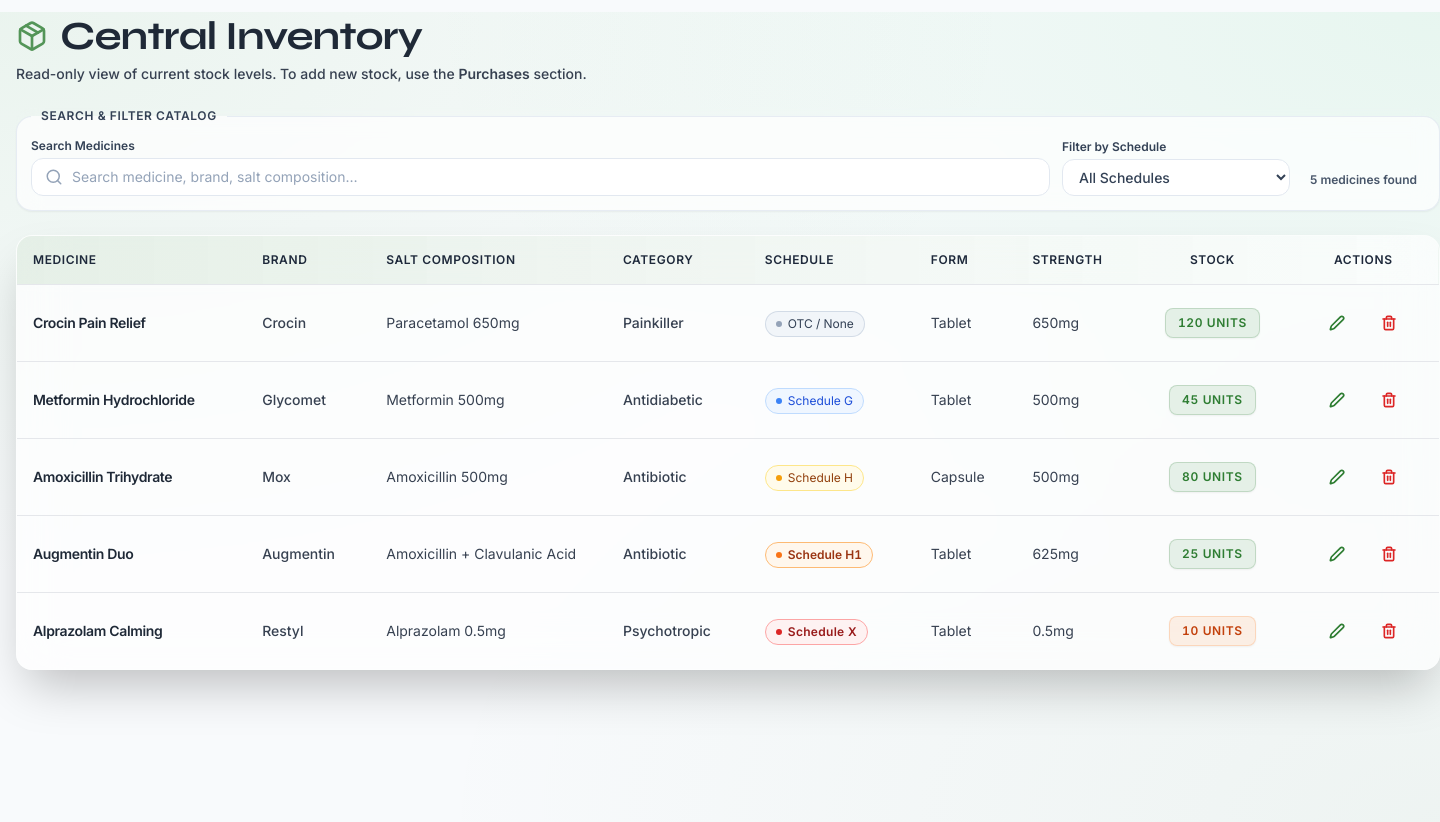
Test: Integration: Inventory Schedule & Filter Flow › searches medicines with debounce and clears search
Expected: the text "Crocin Pain Relief" is shown, top-left (33, 314), bottom-right (146, 331)
Type "Alprazolam" into the field labelled "Search Medicines" at [540, 177], box top-left (31, 158), bottom-right (1050, 196)
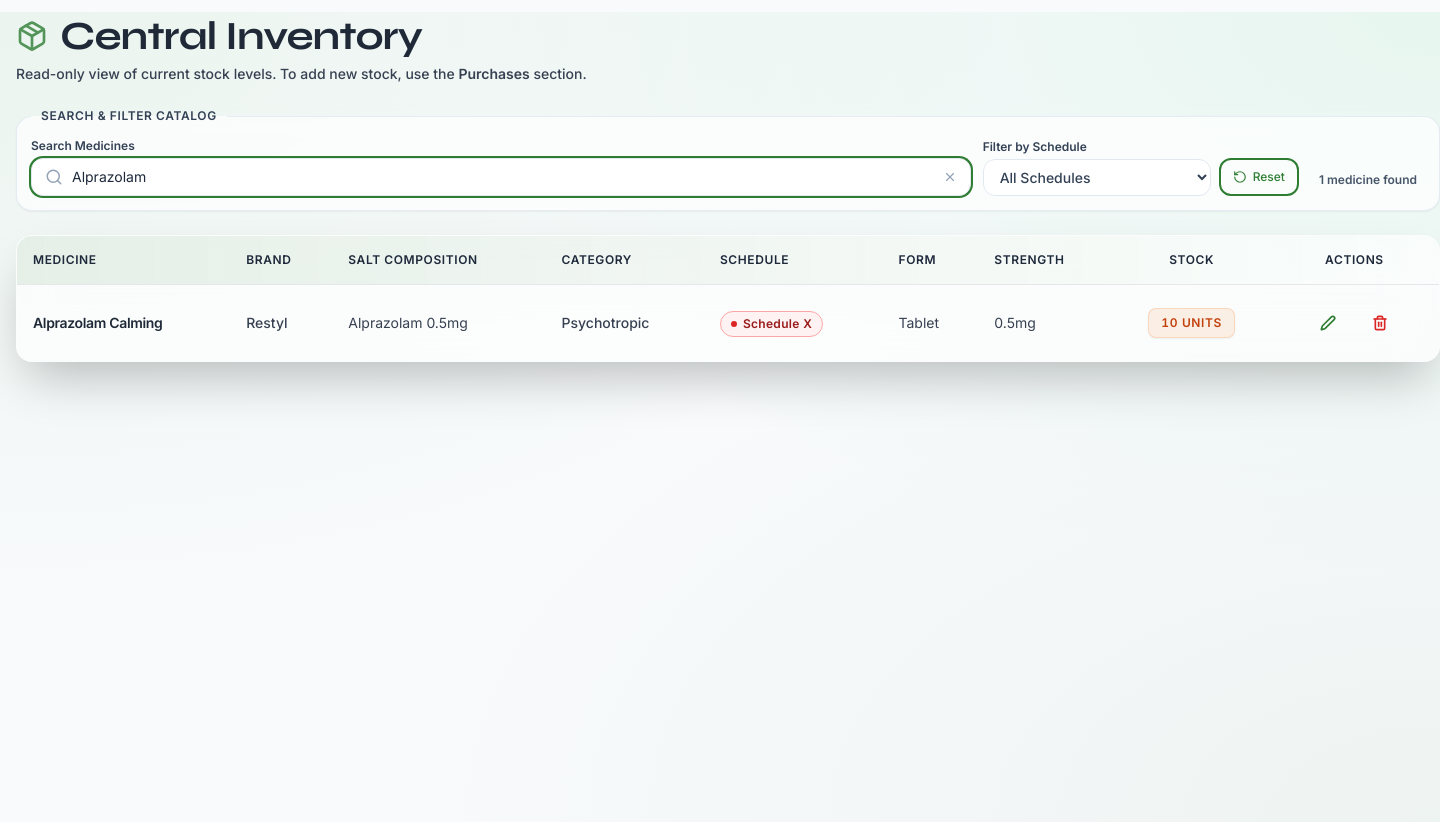
Expected: the text "Alprazolam Calming" is shown, top-left (33, 314), bottom-right (162, 331)
Now the text "Crocin Pain Relief" is gone
Click the button named "Clear search" at [950, 177], box top-left (939, 166), bottom-right (961, 188)
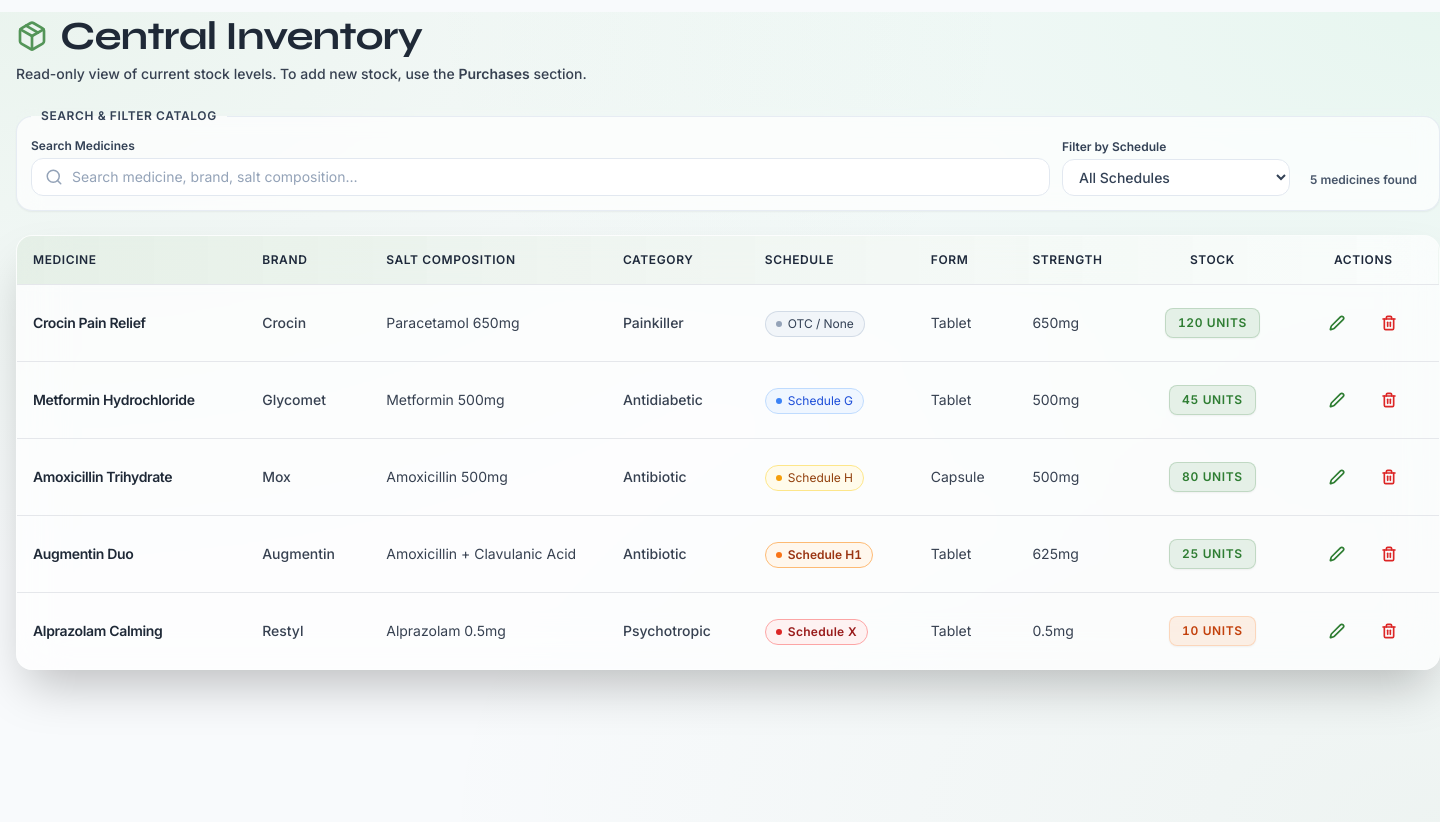
Now the text "Crocin Pain Relief" is shown, box top-left (33, 314), bottom-right (146, 331)
